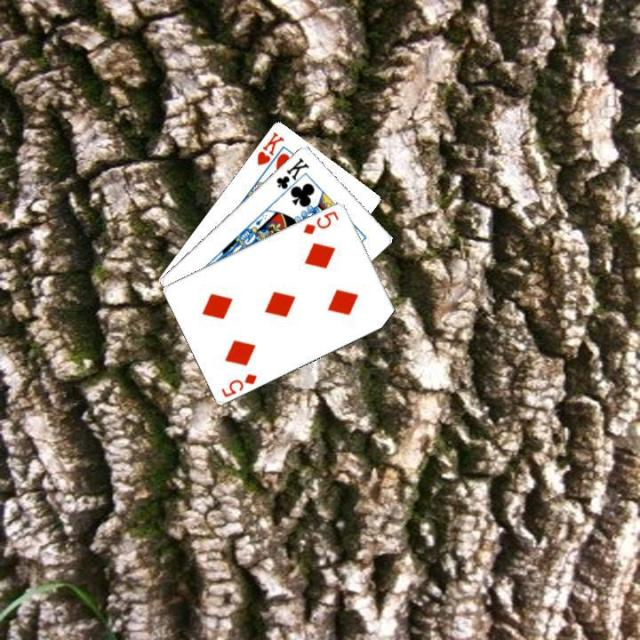5D: (217, 369, 259, 399), (300, 206, 340, 236)
KC: (272, 153, 311, 198)
KH: (252, 127, 286, 167)
